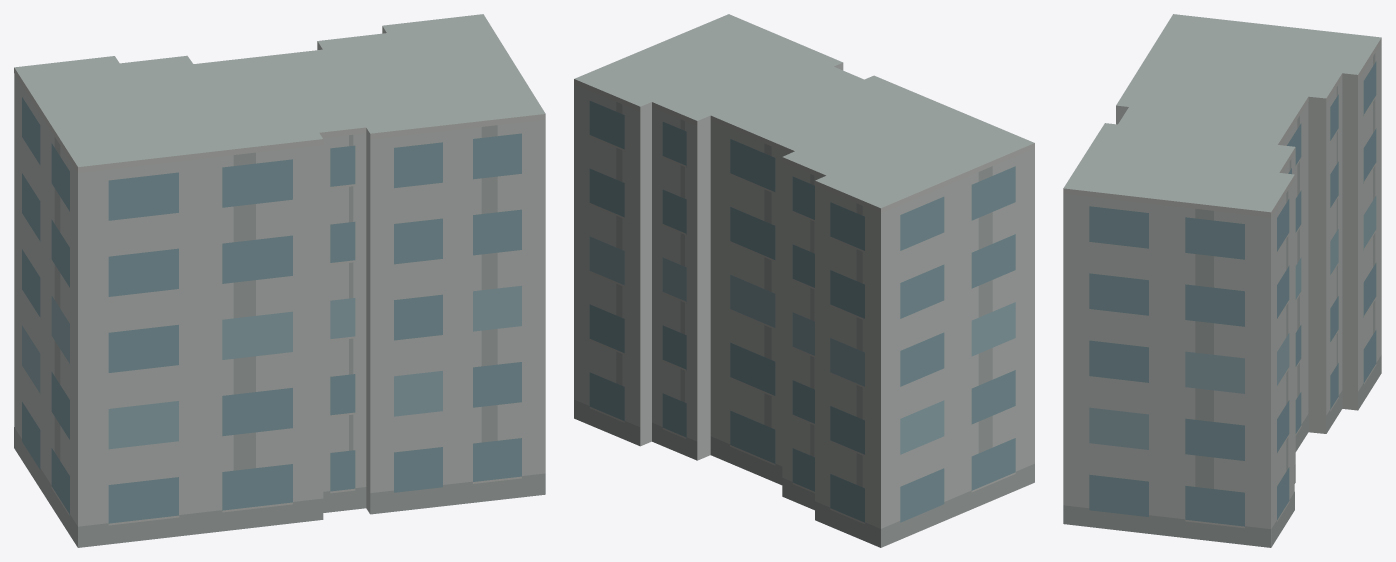
The model's file is survey-upis-32803020.glb.
3 renders of one model, left to right at view 1: azimuth 30°, elevation 25°; view 2: azimuth 150°, elevation 25°; view 3: azimuth 270°, elevation 25°, orthographic. The views are drawn at different scales.
Visible parts, largest first — view 1: survey-upis-32803020.tmp; view 2: survey-upis-32803020.tmp; view 3: survey-upis-32803020.tmp.
Part boxes in pixels (bbox=[...]): survey-upis-32803020.tmp: bbox=[14, 14, 545, 547]; survey-upis-32803020.tmp: bbox=[574, 14, 1034, 547]; survey-upis-32803020.tmp: bbox=[1063, 14, 1381, 547].
Size of the model in its own units: 20.28 by 16 by 13.77.
